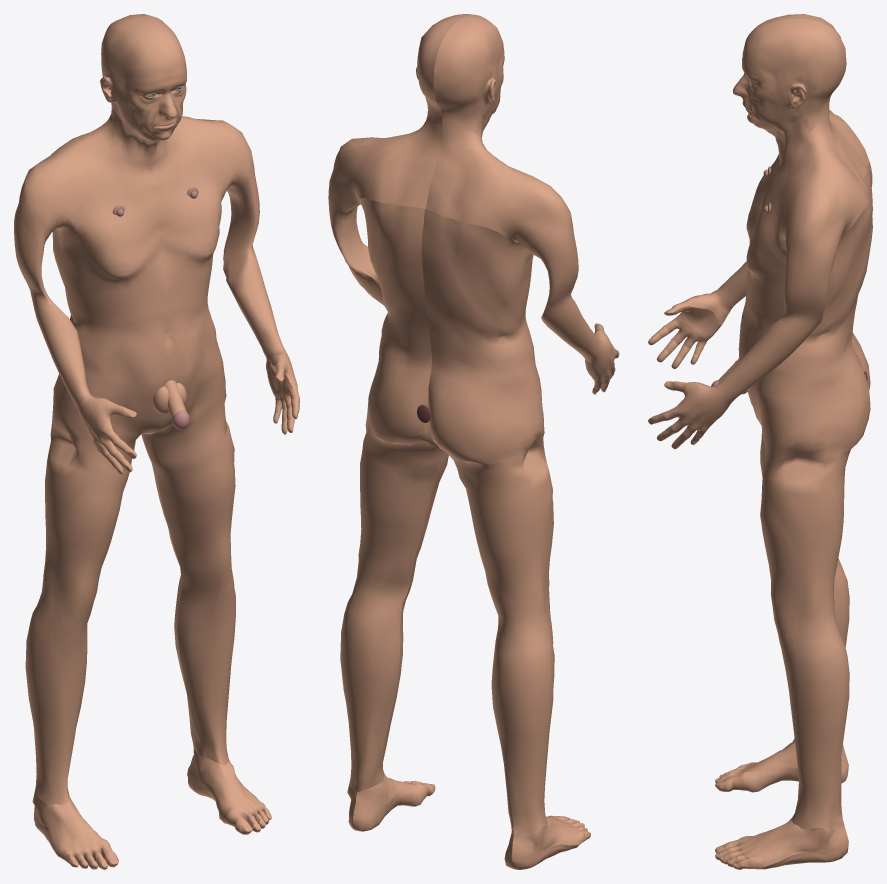
File: body-hochbetagt-maennlich-real-v3.glb
3 renders of one model, left to right at view 1: azimuth 30°, elevation 25°; view 2: azimuth 150°, elevation 25°; view 3: azimuth 270°, elevation 25°, orthographic.
Parts seen in each view (by area): view 1: real-human-body; view 2: real-human-body; view 3: real-human-body.
Part boxes in pixels (<box>): real-human-body: <box>14,14,299,869</box>; real-human-body: <box>328,14,619,869</box>; real-human-body: <box>648,14,872,869</box>.
Size of the model in its own units: 0.4902 by 1.59 by 0.4027.
Materials: 8 (1 with a texture image).
